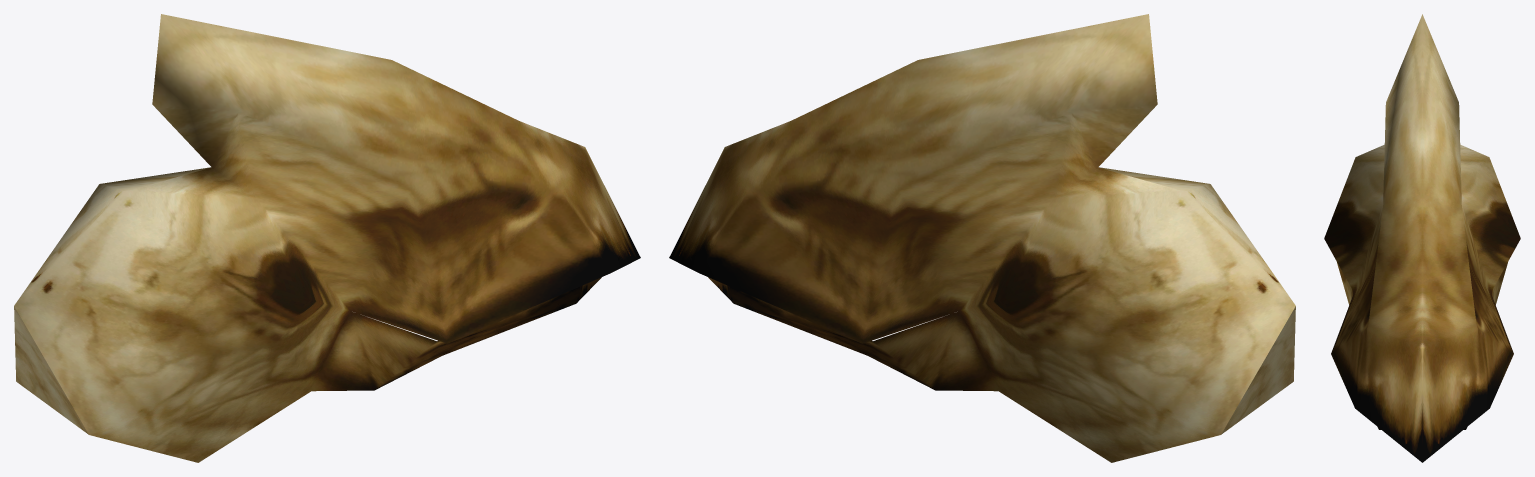
Rendered from tallstriderskull.obj.
3 views of the same model, side by side, from view 1: azimuth 30°, elevation 25°; view 2: azimuth 150°, elevation 25°; view 3: azimuth 270°, elevation 25° (orthographic). The views are drawn at different scales.
Parts seen in each view (by area): view 1: tallstriderskull; view 2: tallstriderskull; view 3: tallstriderskull.
Boxes of the visible parts, left/top/right/bottom form: tallstriderskull: left=14, top=14, right=640, bottom=462; tallstriderskull: left=669, top=14, right=1295, bottom=462; tallstriderskull: left=1324, top=14, right=1520, bottom=462.
Size of the model in its own units: 0.8117 by 0.5189 by 0.2926.
1 material, 1 textured.
